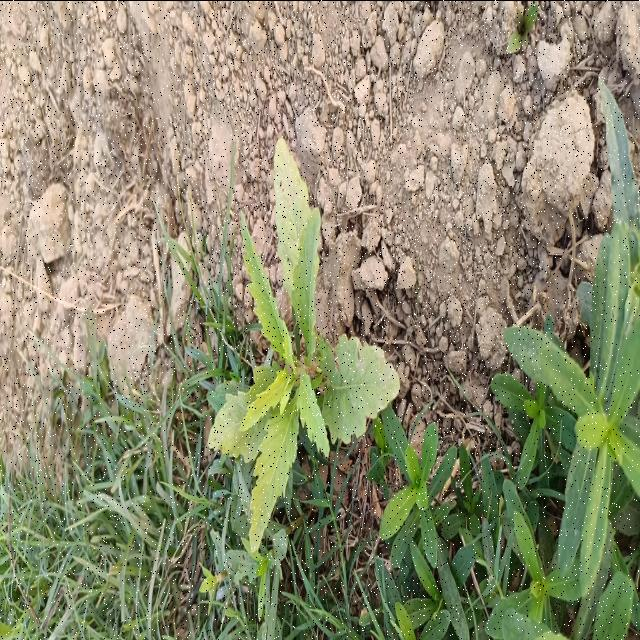plant: (210, 136, 399, 549)
